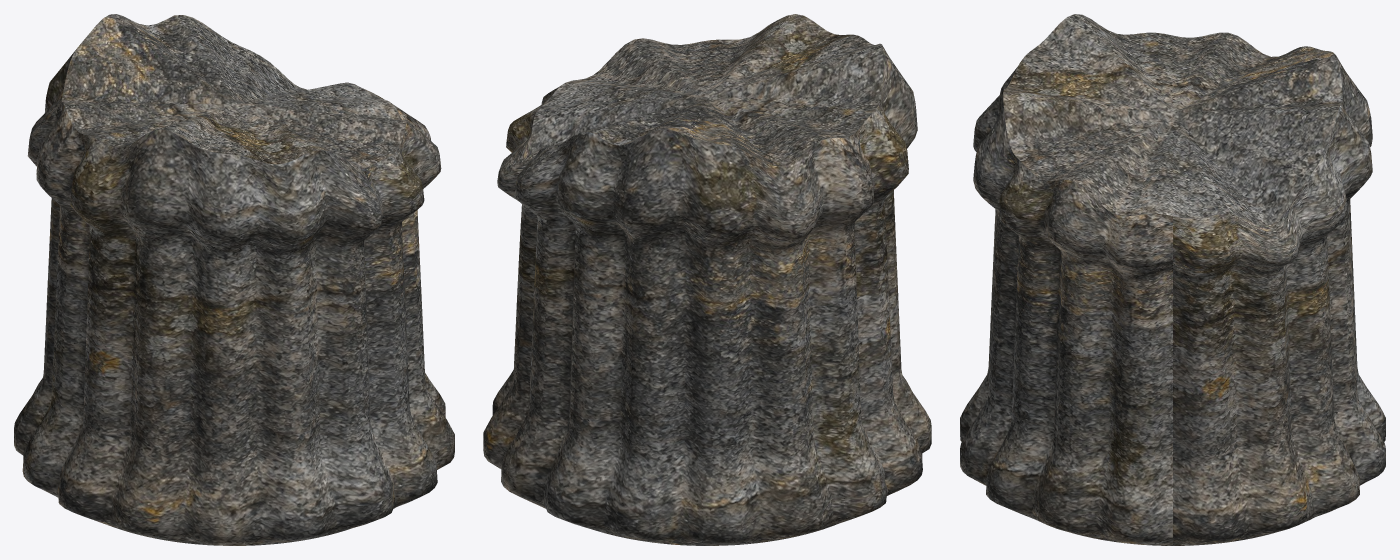
Rendered from fluted_drum.glb.
The picture shows the model from 3 angles, left to right: view 1: azimuth 30°, elevation 25°; view 2: azimuth 150°, elevation 25°; view 3: azimuth 270°, elevation 25°; orthographic projection. The views are drawn at different scales.
Visible parts, largest first — view 1: fluted_drum; view 2: fluted_drum; view 3: fluted_drum.
Part boxes in pixels (box(x1,y1,x2,y2)): fluted_drum: box(14, 14, 454, 545); fluted_drum: box(483, 14, 931, 545); fluted_drum: box(960, 14, 1385, 545).
Bounding box in the file's own units: 0.8308 × 0.8526 × 0.8308.
1 material, 1 textured.
